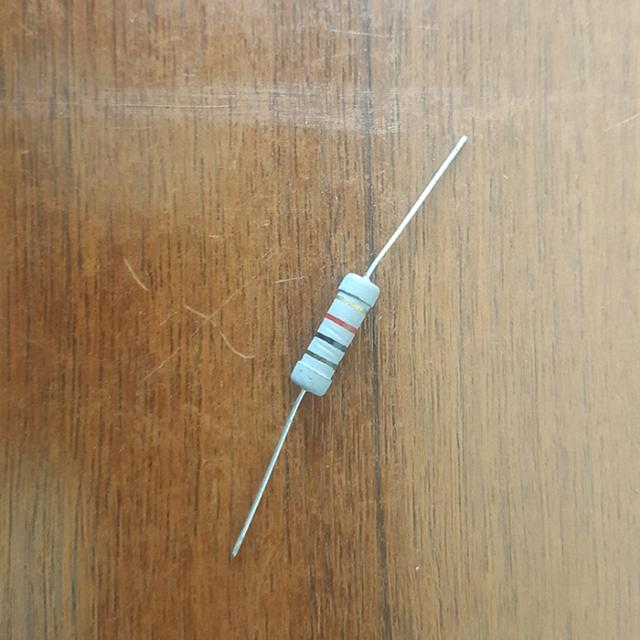black: (315, 331, 347, 351)
brown: (306, 349, 337, 367)
gold: (336, 290, 367, 311)
red: (325, 312, 357, 334)
resistor: (278, 264, 392, 402)
